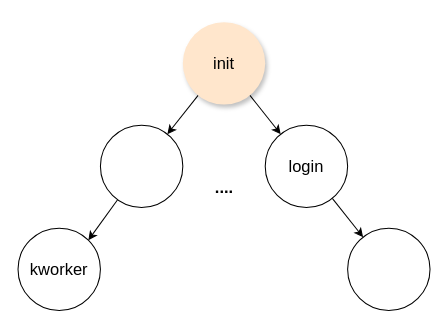
Image size: 448x329. Some labels were removed from this diagram. Each missing label, with the centre of its shape:
bash: the point at 388,269
kthreadd: the point at 141,166
